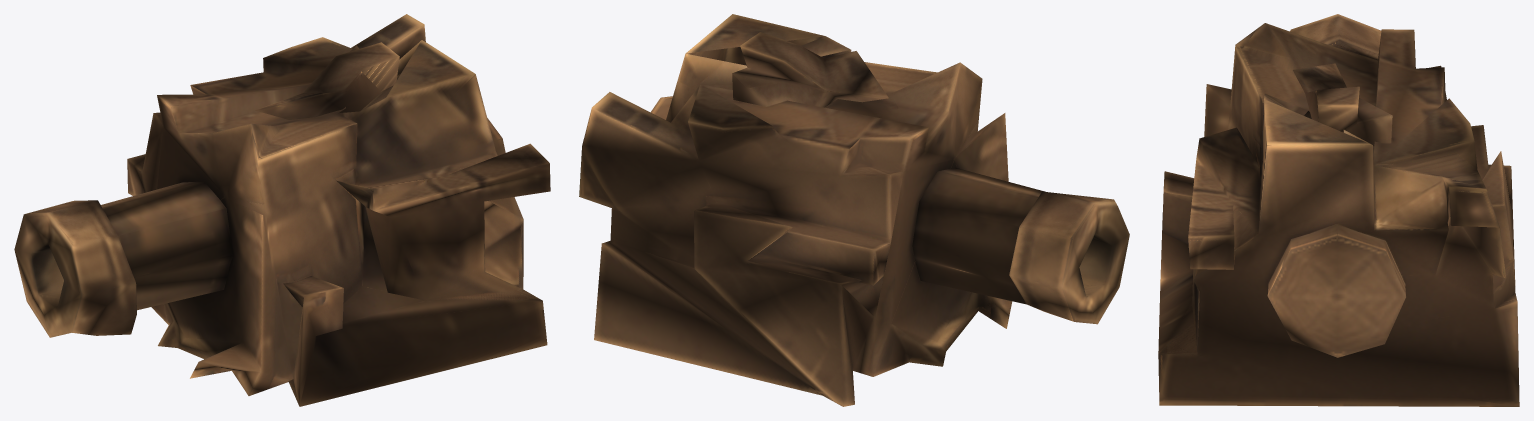
File: Meshy_AI_Desert_Siege_Engine_0831085326_texture.fbx
3 views of the same model, side by side, from view 1: azimuth 30°, elevation 25°; view 2: azimuth 150°, elevation 25°; view 3: azimuth 270°, elevation 25° (orthographic). The views are drawn at different scales.
Parts seen in each view (by area): view 1: mesh_node; view 2: mesh_node; view 3: mesh_node.
Part boxes in pixels (left/top/right/bottom): mesh_node: left=14, top=14, right=550, bottom=406; mesh_node: left=579, top=14, right=1129, bottom=406; mesh_node: left=1158, top=14, right=1519, bottom=406.
Size of the model in its own units: 100 by 57.62 by 68.75.
Materials: 1 (1 with a texture image).
